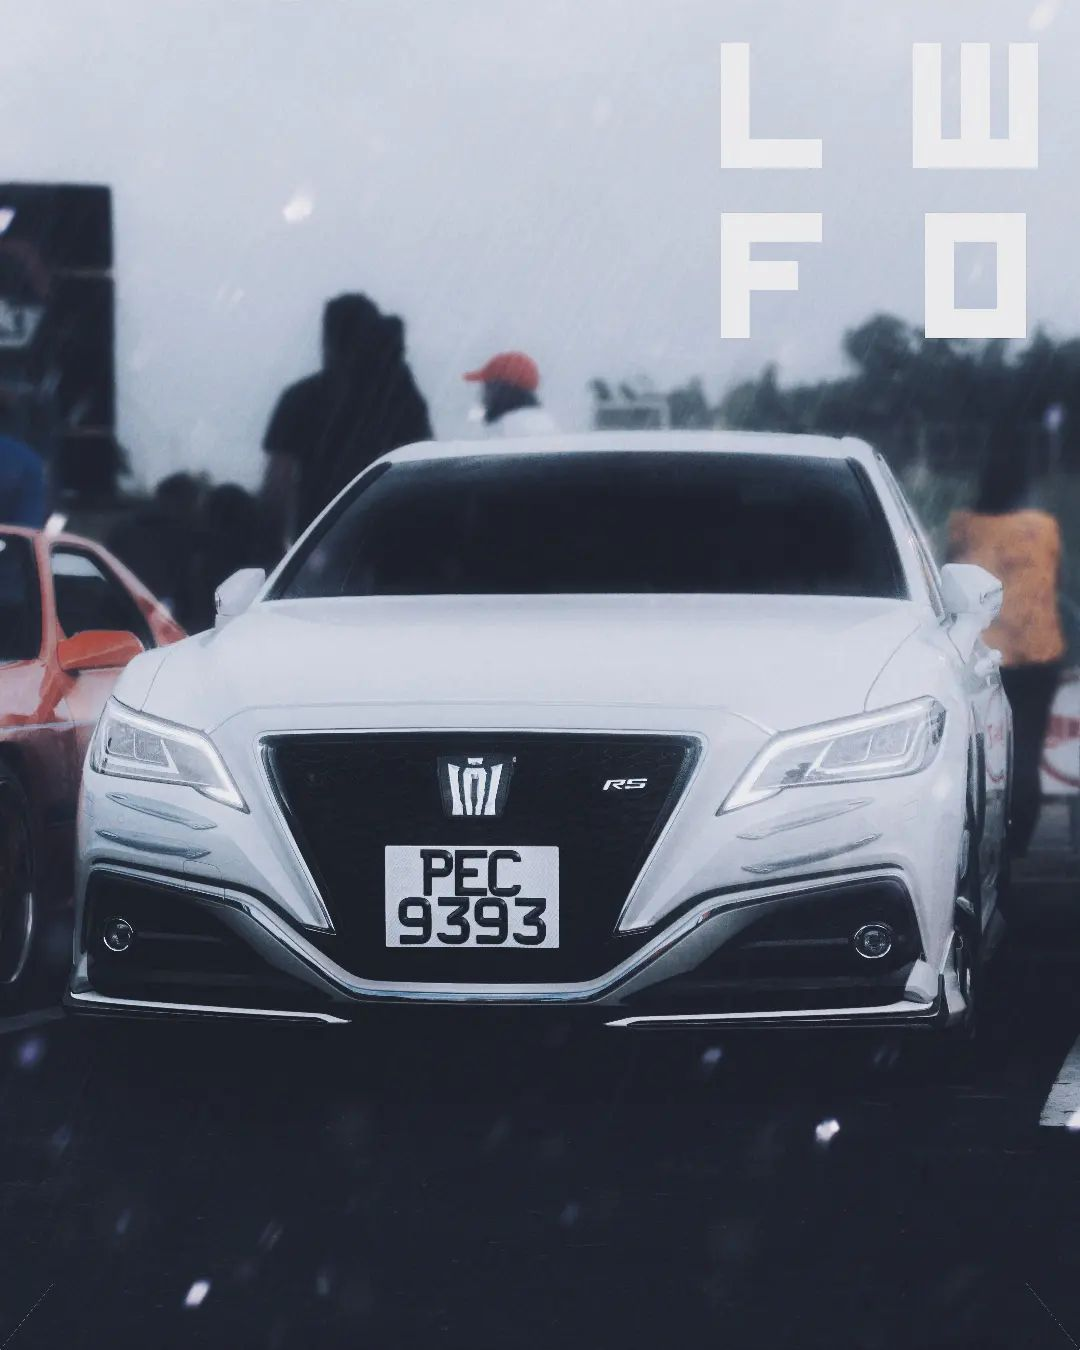License-Plate: (385, 845, 557, 946)
